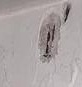Exposed reinforcement: (42, 25, 51, 58), (64, 5, 71, 23), (50, 23, 56, 42)
Spalling: (37, 11, 62, 64), (61, 1, 73, 26)
